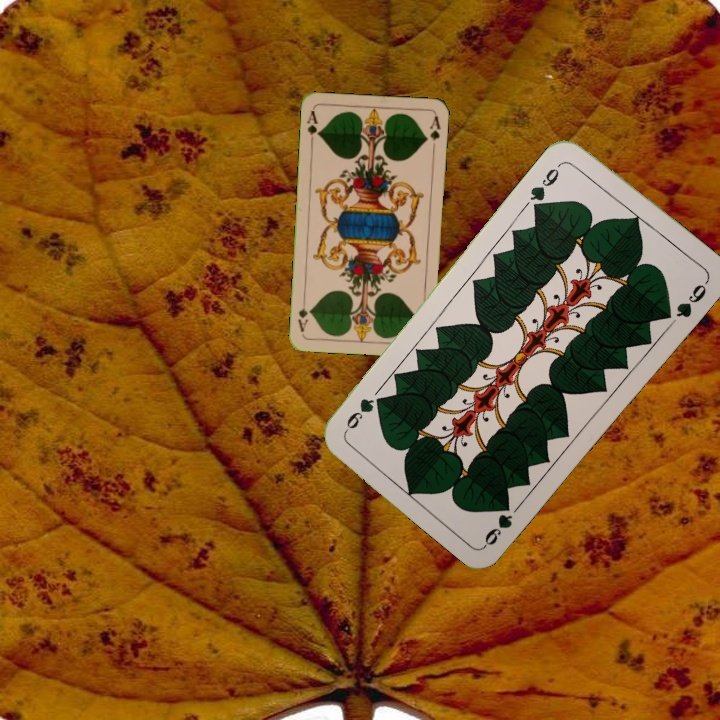G9: (525, 158, 566, 212), (480, 509, 515, 549)
GA: (303, 106, 322, 147)
